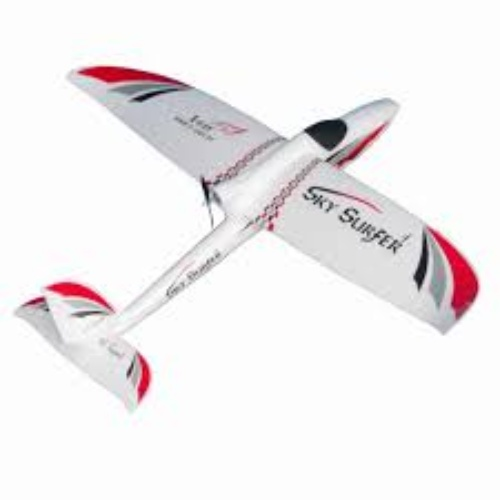uav: (15, 59, 481, 412)
